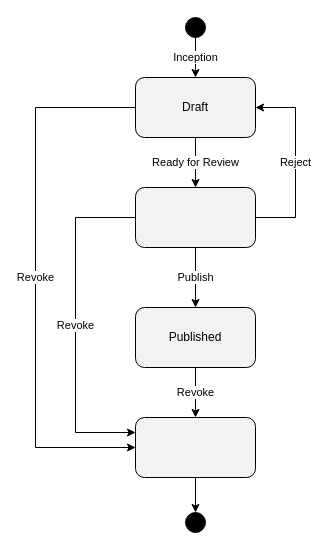
Some shapes in this 328 by 550 pixel diagram are drawn without their labels. The shapes that lost their labels are listed below. From the top down, each one's box as (x1, y1, x2, y2) in pixels, then its label:
(134, 186, 256, 248): Review
(134, 416, 256, 478): Revoked
